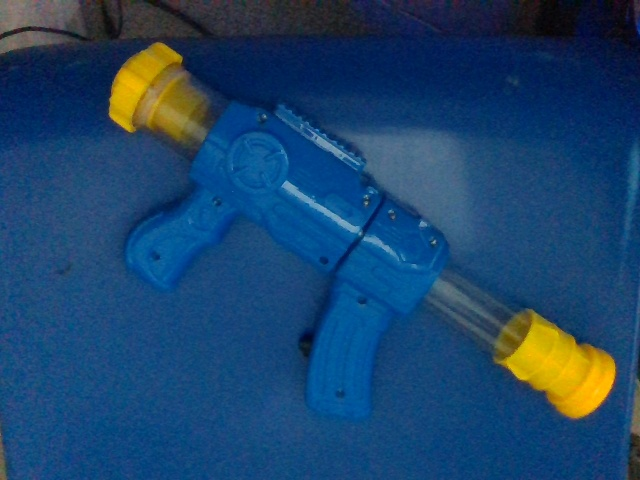screw hole: (257, 112, 268, 125), (149, 251, 161, 262), (362, 194, 373, 206), (428, 236, 439, 248), (357, 294, 368, 305), (388, 209, 398, 221), (335, 388, 345, 398), (213, 196, 222, 206), (319, 256, 329, 265)
toy: (108, 41, 616, 422)
